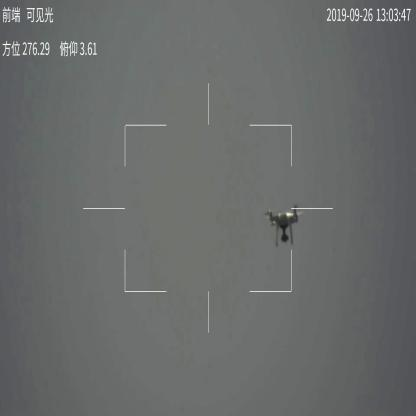uav: (262, 204, 305, 247)
